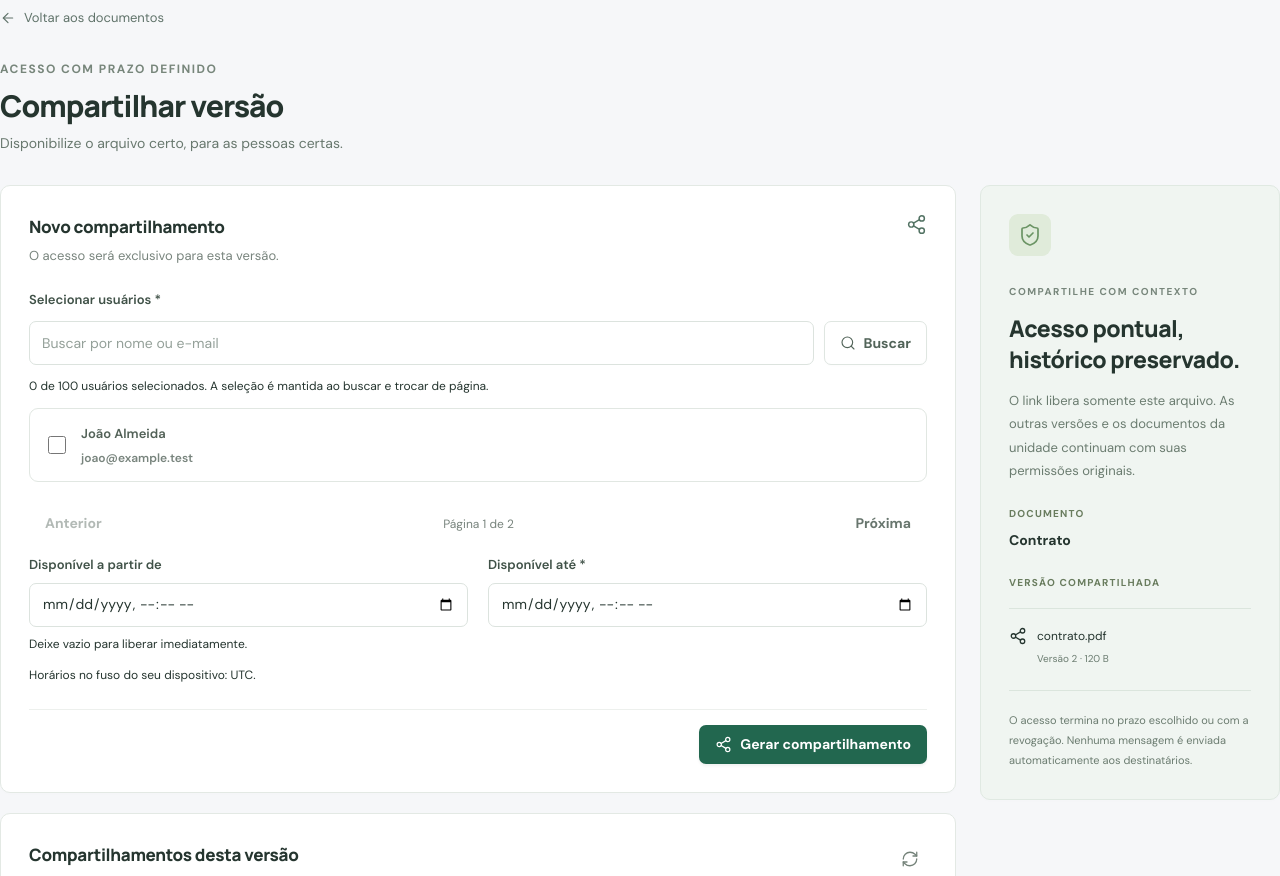
Test: compartilhamento por versão › preserva dados com erro 422 e não repete automaticamente a criação
Click the checkbox labelled "João Almeida joao@example.test" at (57, 446), box [48,436,66,454]
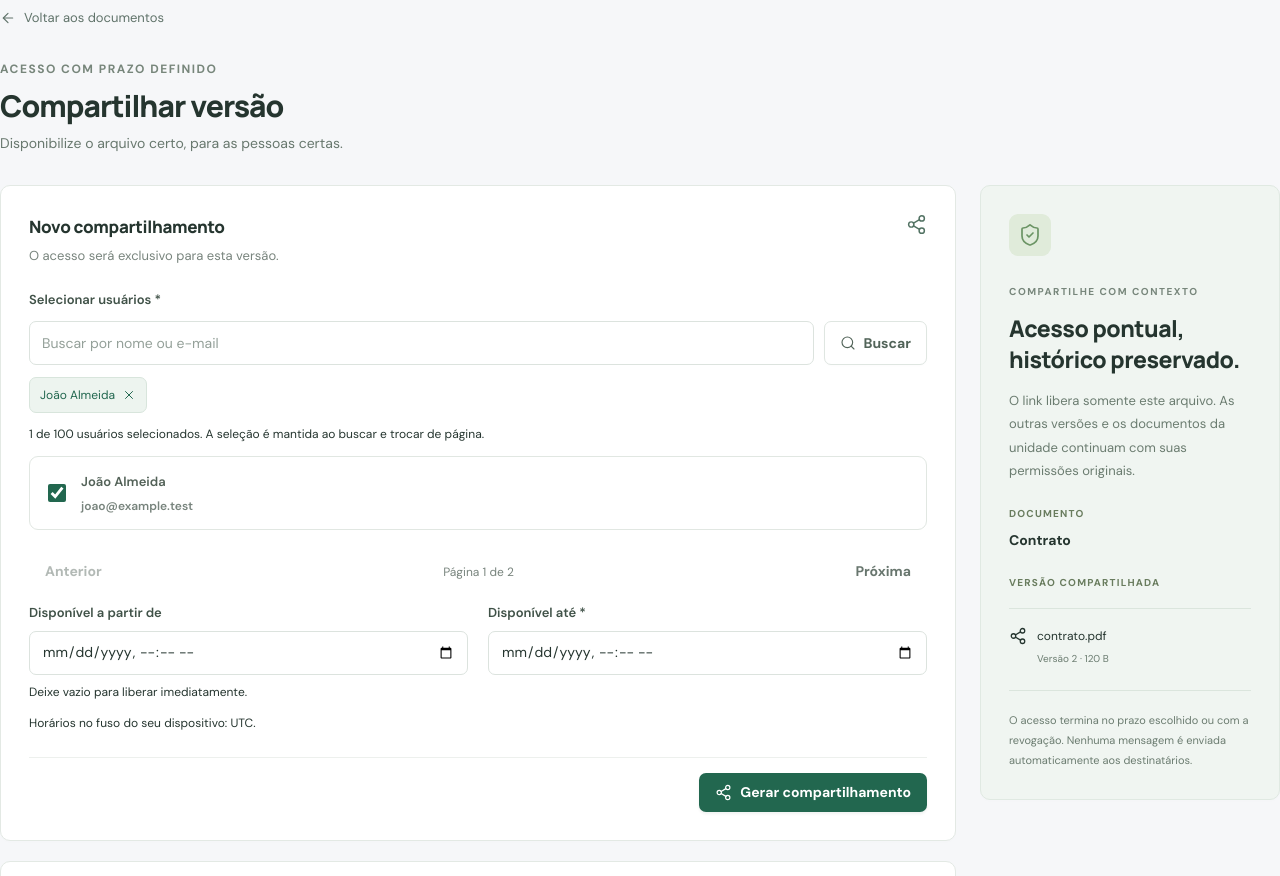
Type "2099-01-01T12:00" into the field with id "share-expiry" at (708, 653), box [488,631,927,675]
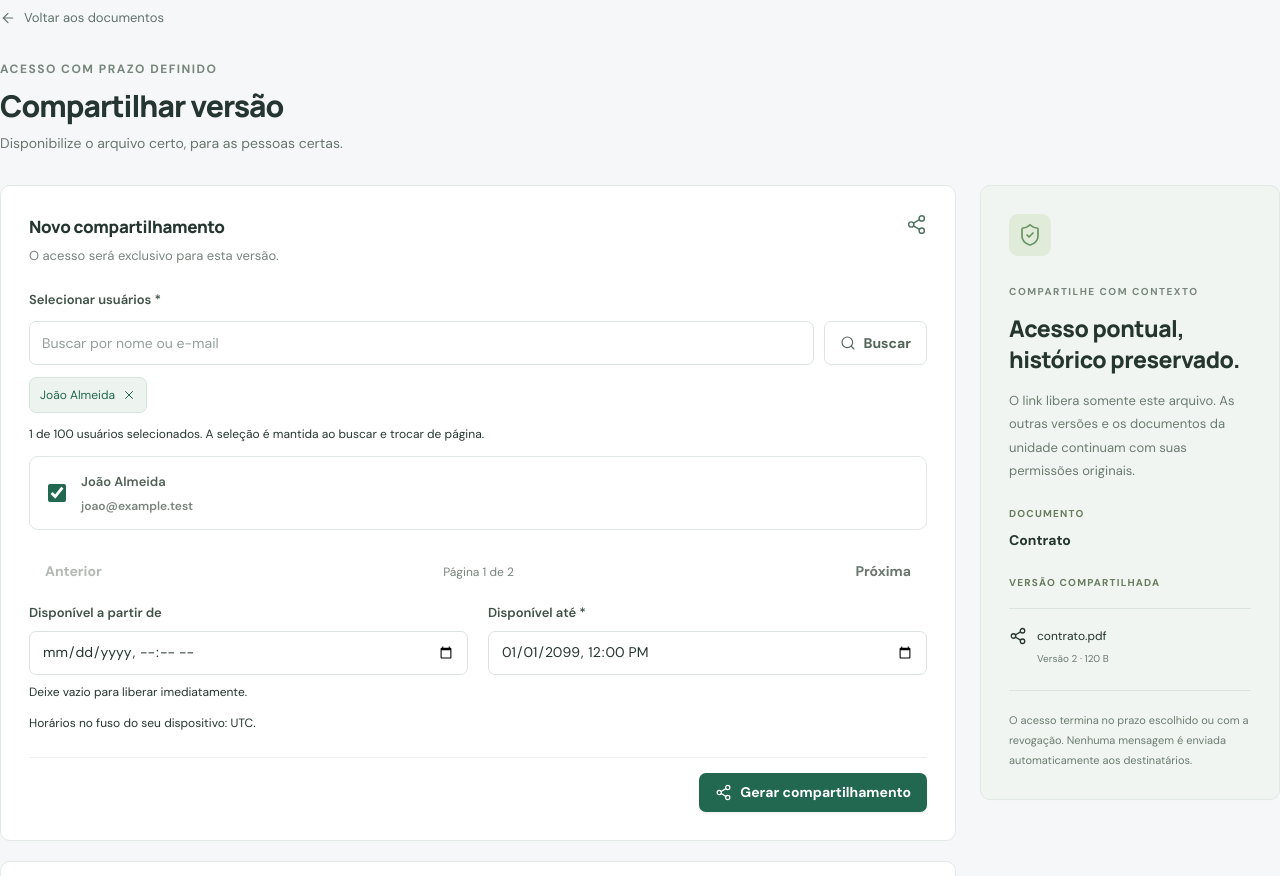
Submit the form, box [0,185,956,841]
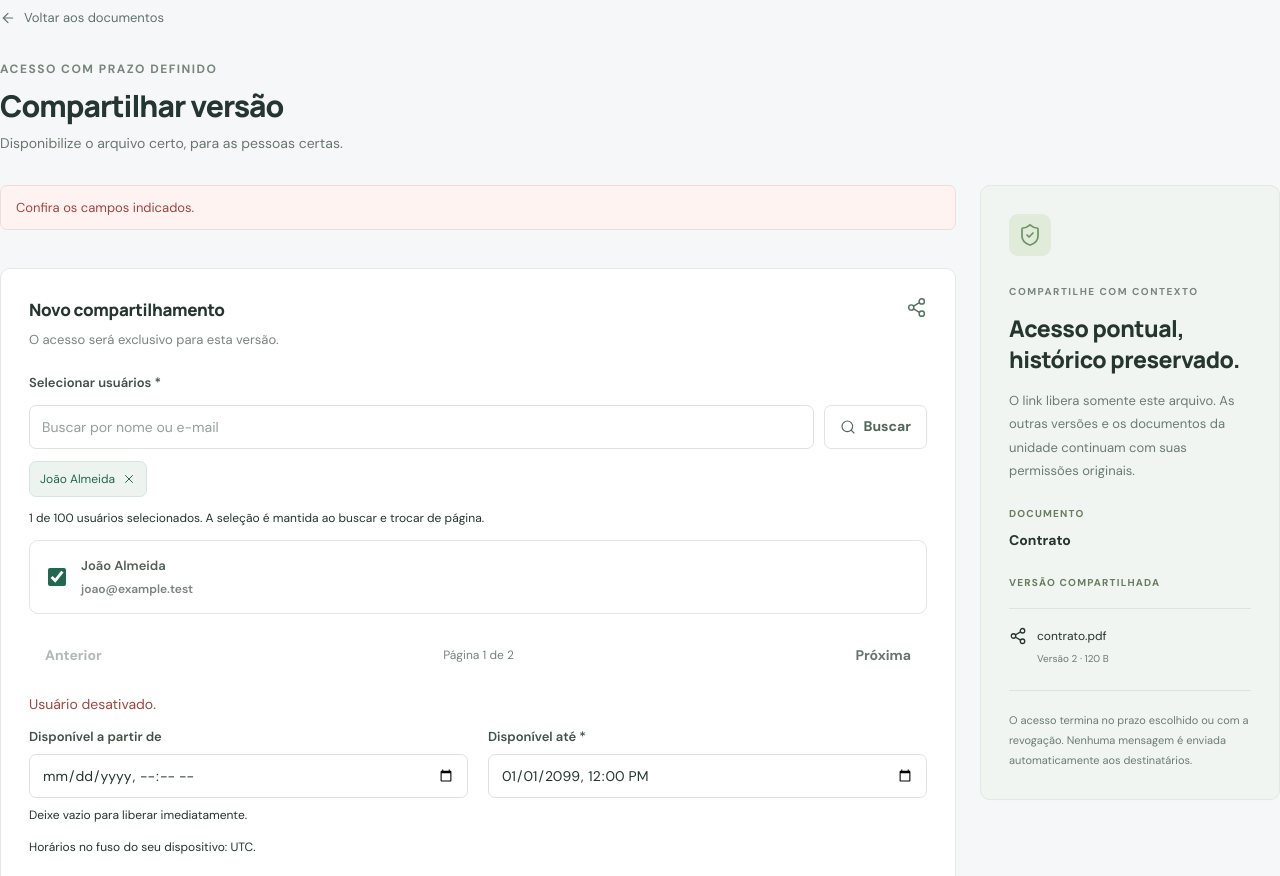
Now the text "1 de 100" is shown, box [29,510,484,526]
Now the text "Usuário desativado." is shown, box [29,695,156,713]
